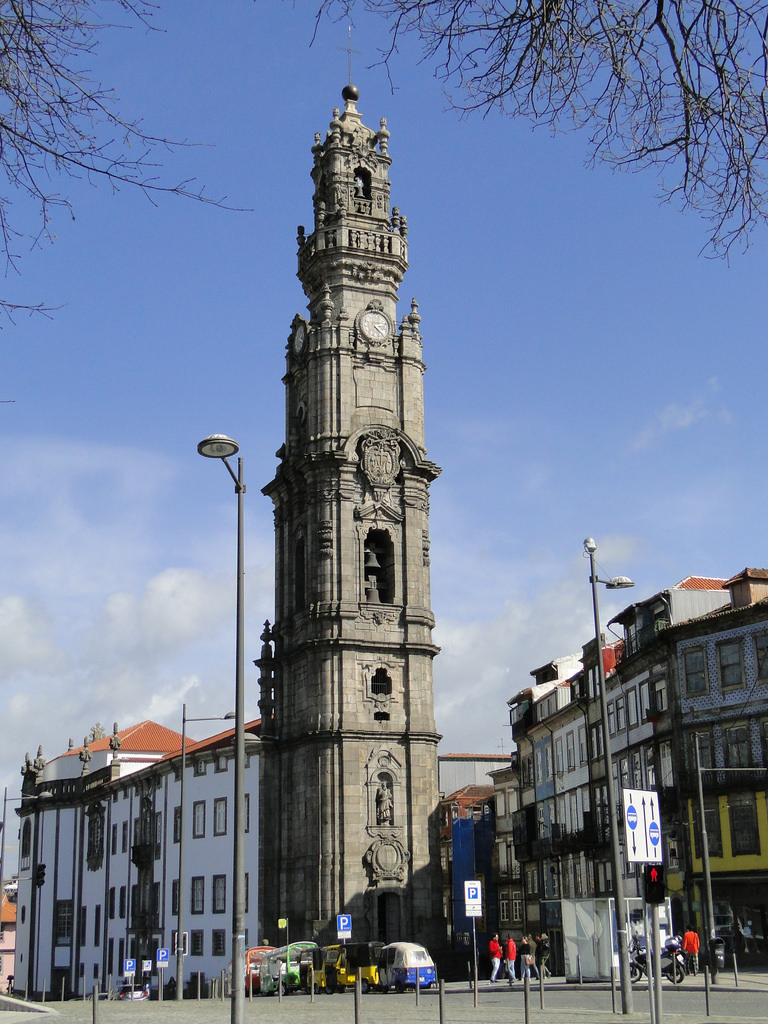clerigos: (253, 29, 447, 956)
